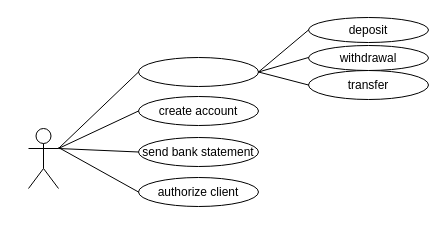
This 446x227 diagram has some shape labels left out. Here are the shapes that lost their labels. From the top down, the centre of each, then its label:
At point 198,71: "execute transaction".
At point 43,158: "employee".
